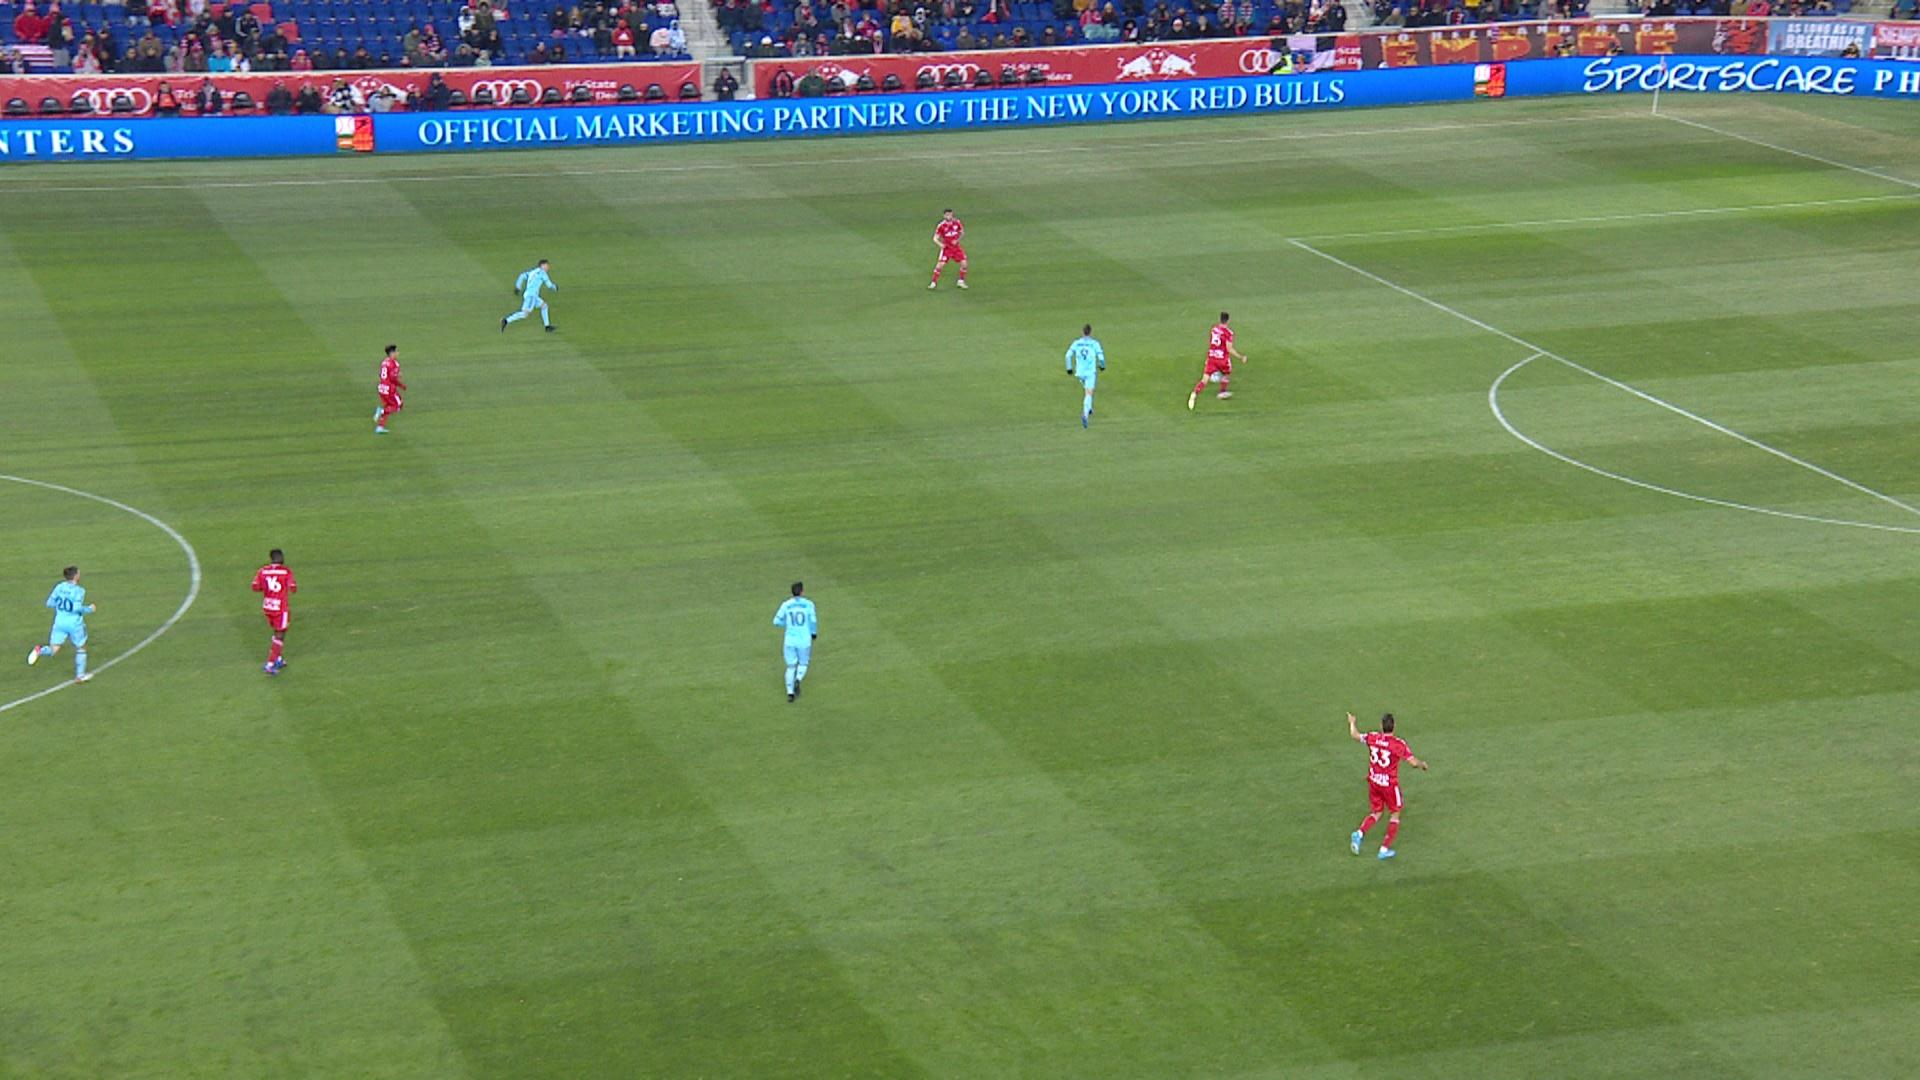football: (1213, 373, 1220, 381)
